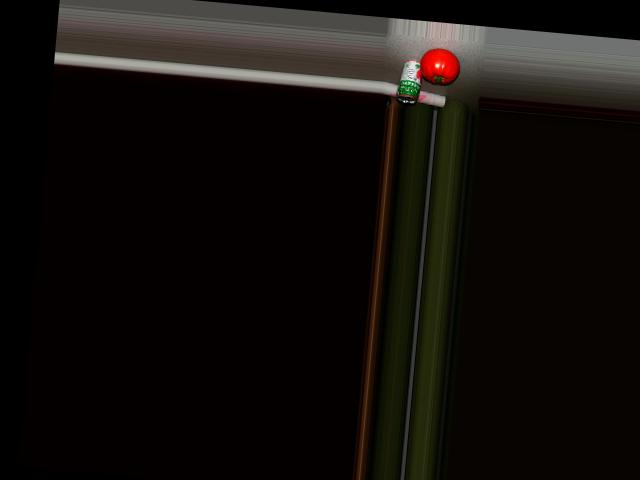tomato: (419, 47, 461, 84)
